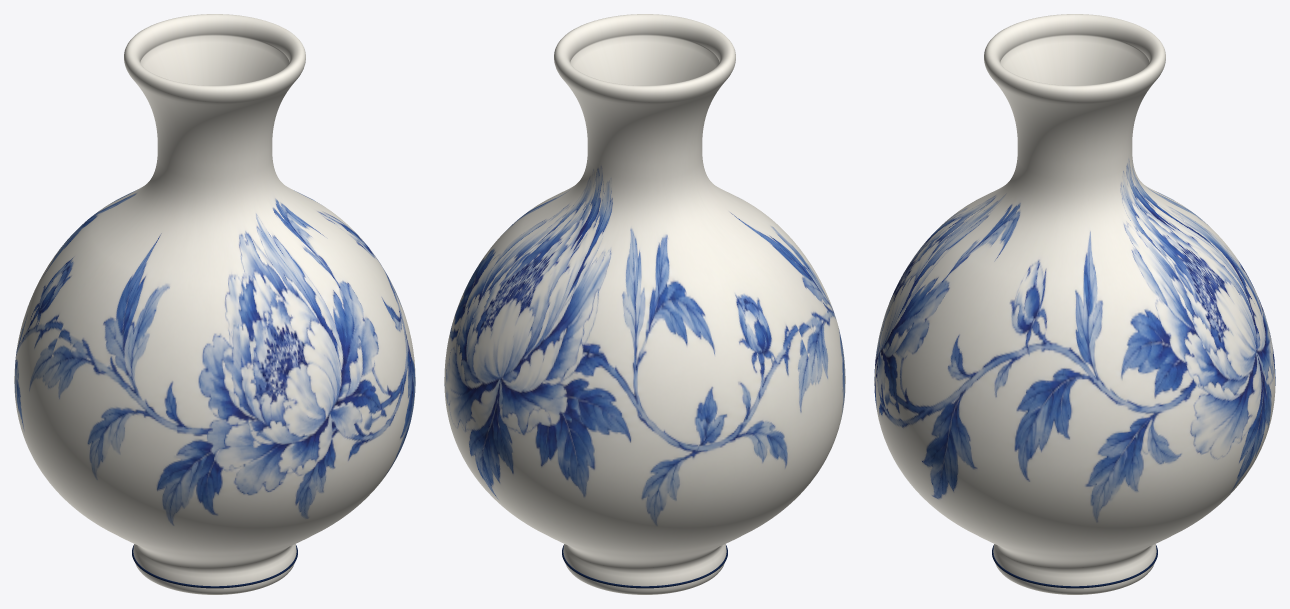
File: porcelain-vase.obj
3 renders of one model, left to right at view 1: azimuth 30°, elevation 25°; view 2: azimuth 150°, elevation 25°; view 3: azimuth 270°, elevation 25°, orthographic.
Parts seen in each view (by area): view 1: Porcelain_body, Cobalt_foot_line; view 2: Porcelain_body, Cobalt_foot_line; view 3: Porcelain_body, Cobalt_foot_line.
Boxes of the visible parts, <box> form: Porcelain_body: <box>14,14,415,594</box>; Cobalt_foot_line: <box>132,545,297,588</box>; Porcelain_body: <box>444,14,845,594</box>; Cobalt_foot_line: <box>562,545,727,588</box>; Porcelain_body: <box>874,14,1275,594</box>; Cobalt_foot_line: <box>992,545,1157,588</box>.
Bounding box in the file's own units: 1.47 × 2.09 × 1.47.
